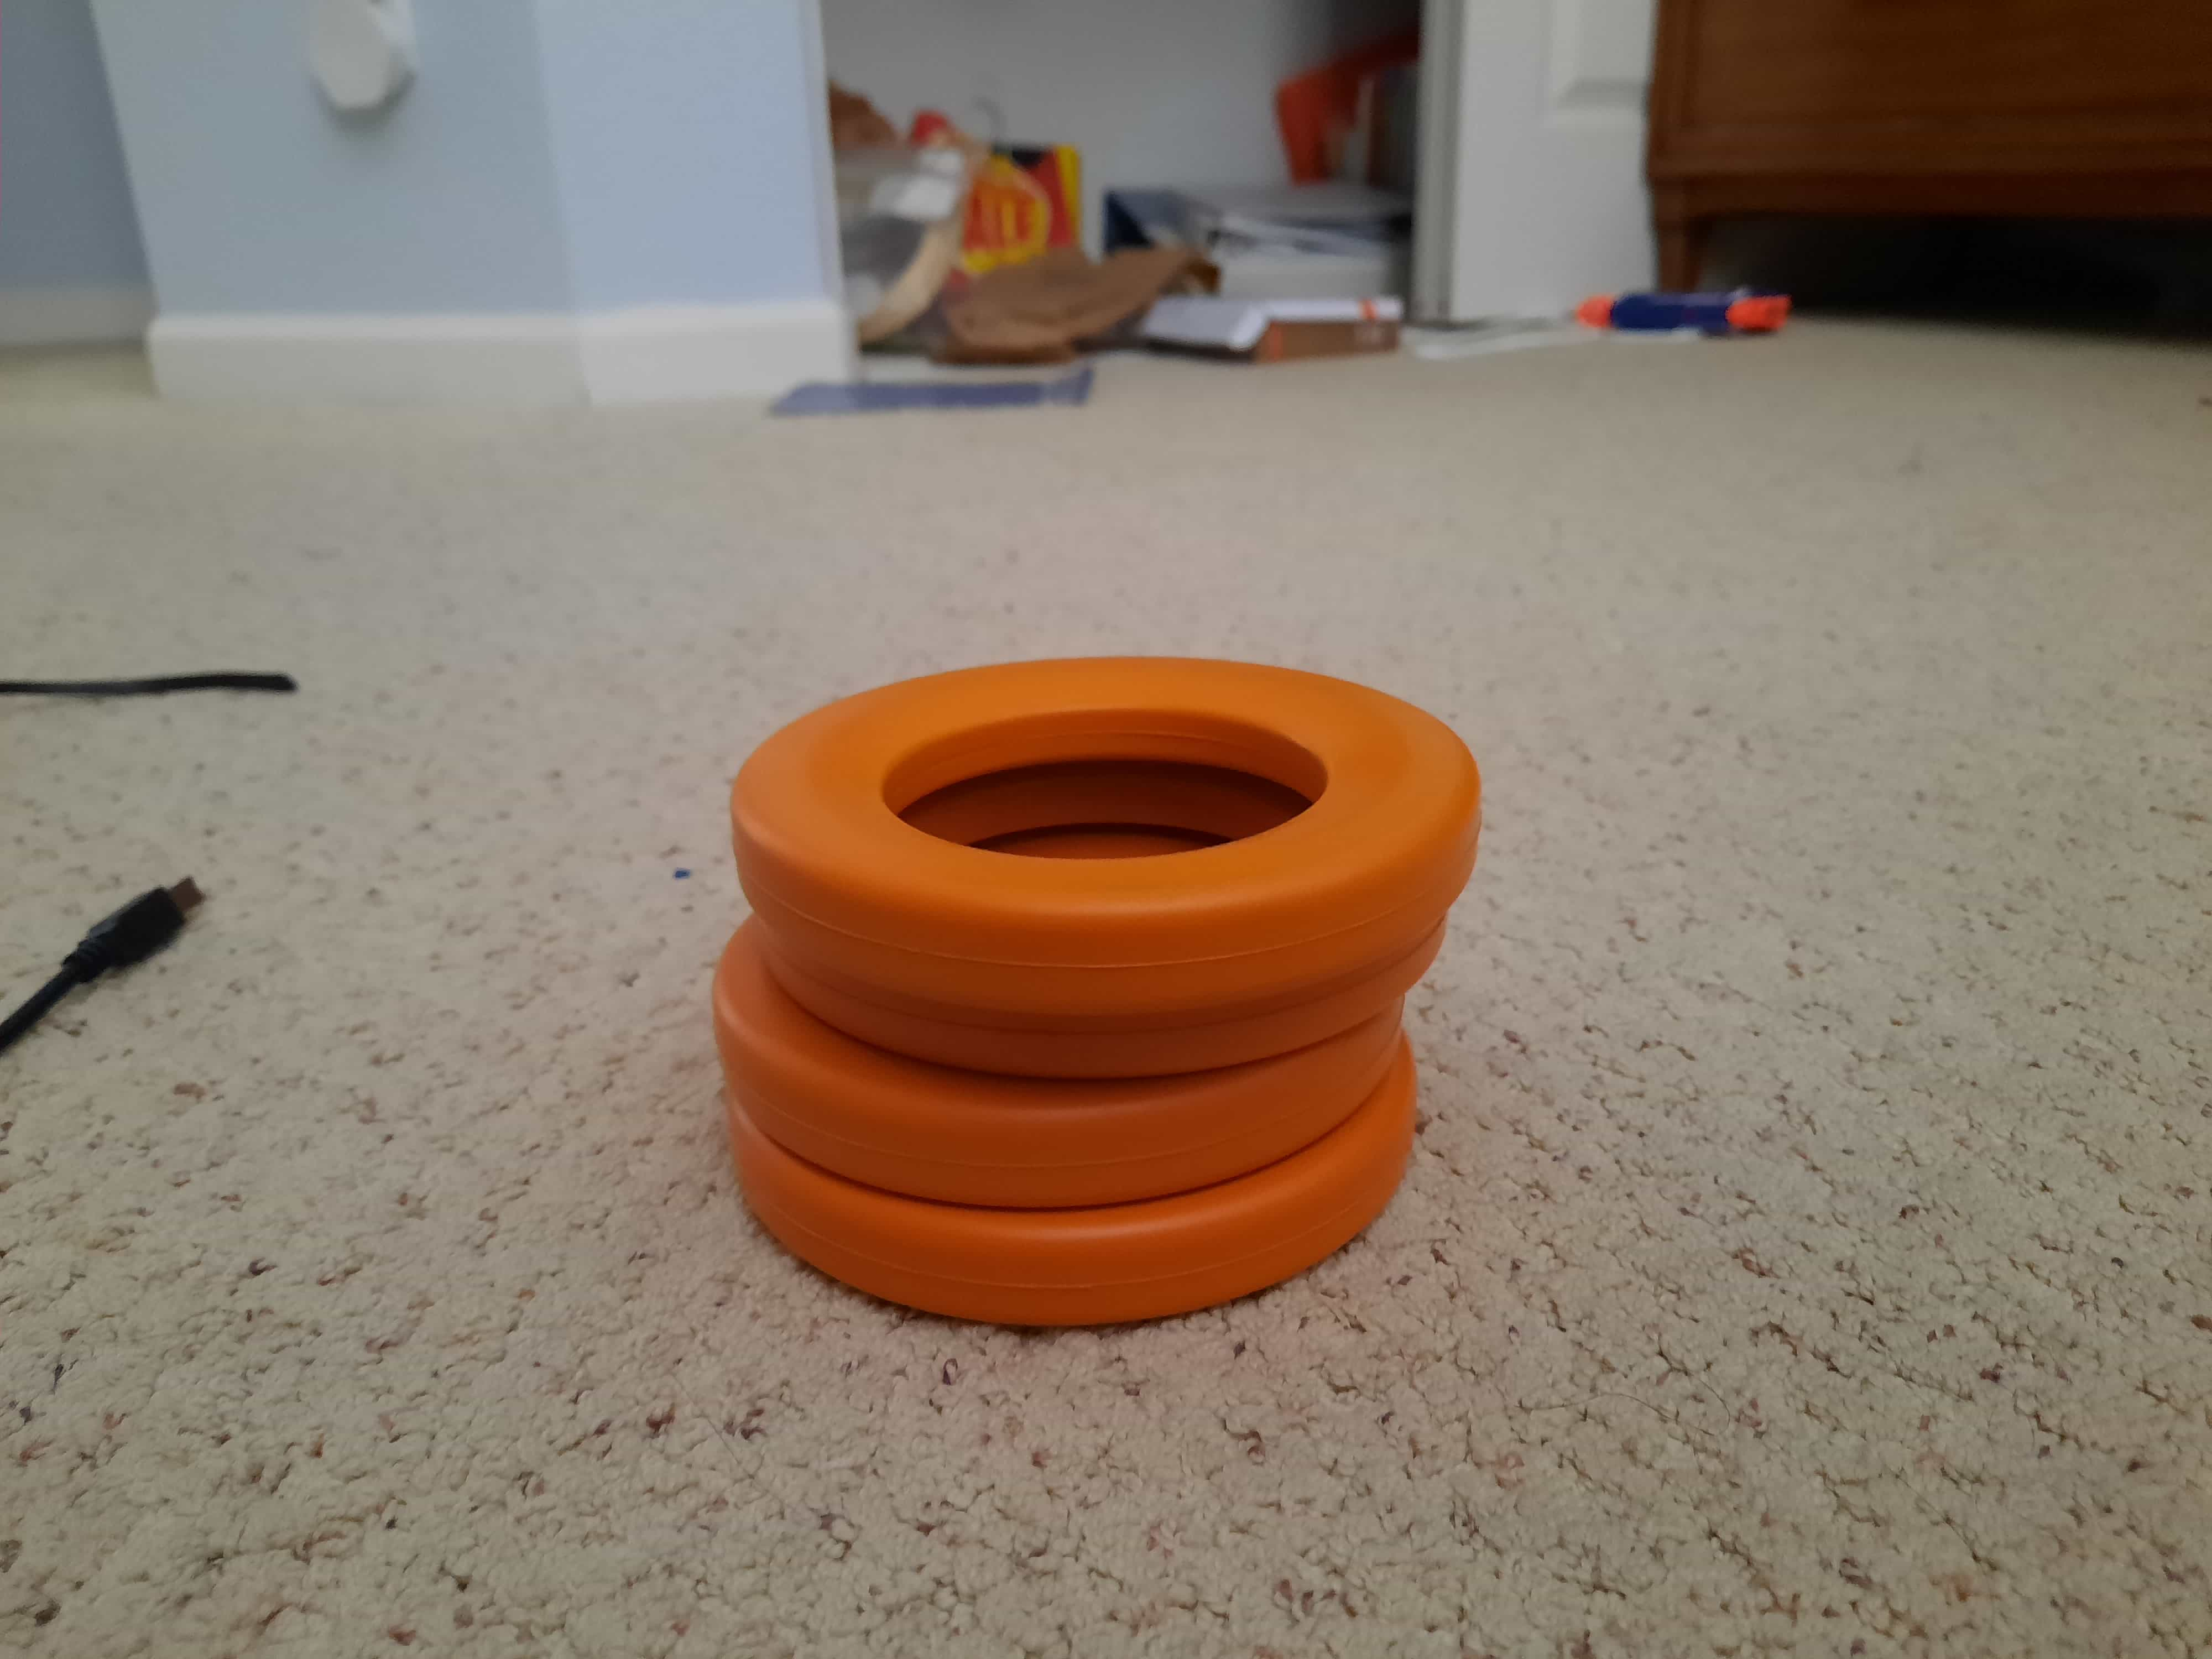FourStack: (721, 650, 1482, 1324)
